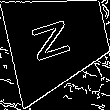N_E: (34, 15, 82, 67)
